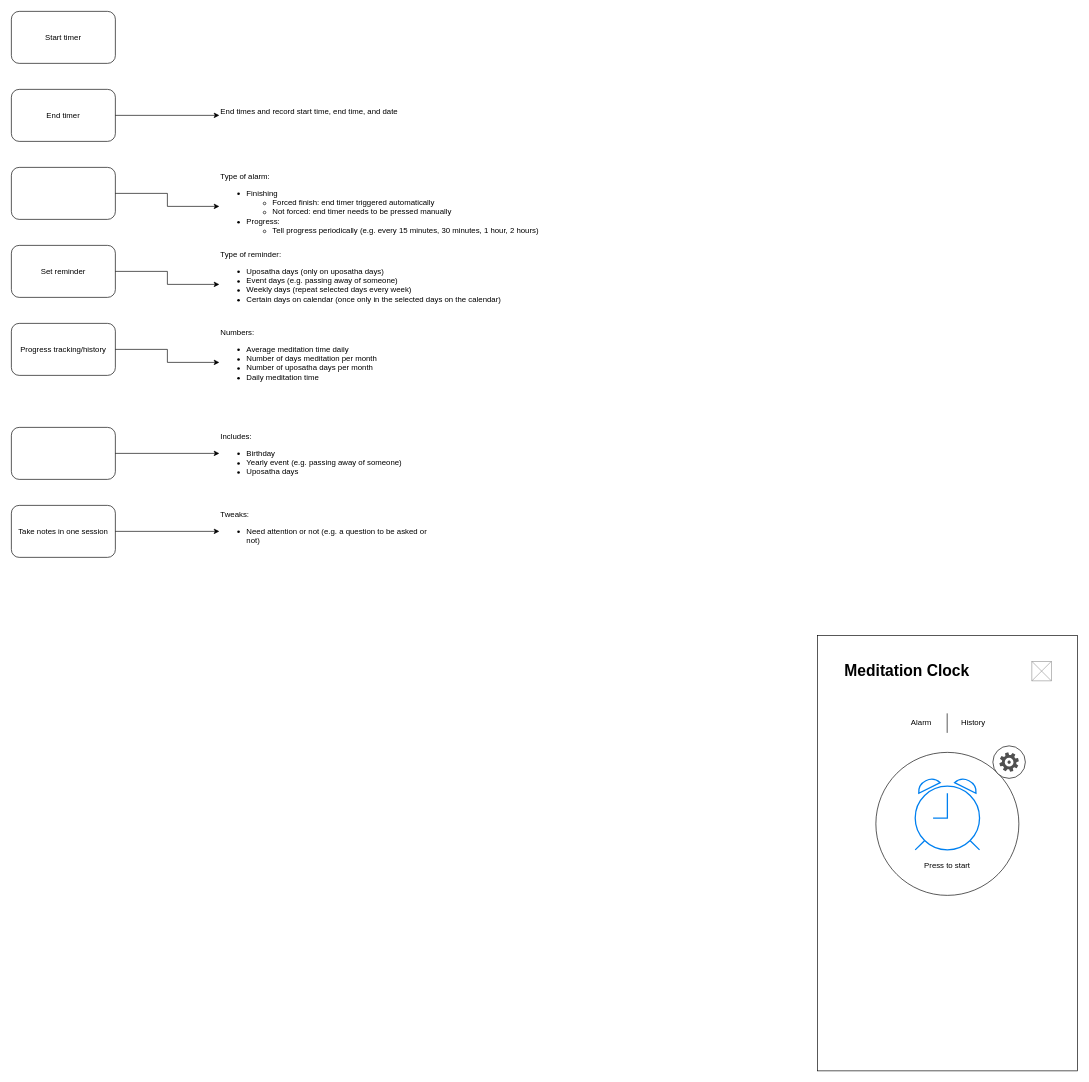
Image size: 1089x1082. Some labels were removed from this diagram. The shapes that lost their labels are listed below. From the top down, each one's centre as x and y in pixels, then its label:
At point (63, 193): "Set alarm".
At point (63, 453): "Calendar".
